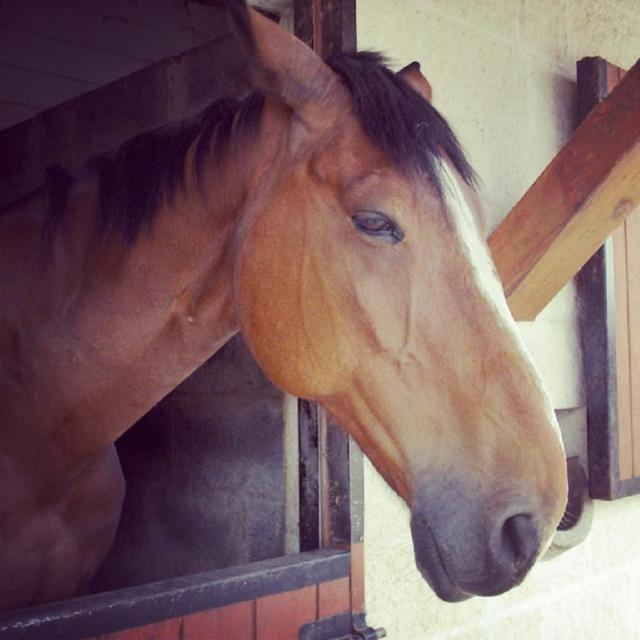Horse: (0, 0, 570, 615)
